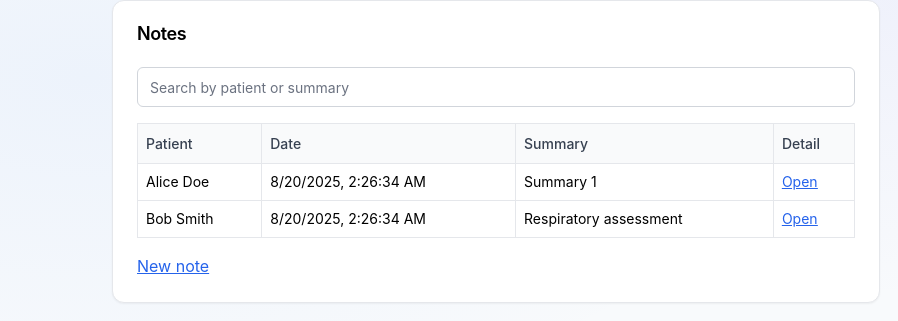
Scenario: Notes list - UX search › filters notes by patient or summary
Check: the heading "Notes" is shown, box [137,23,186,44]
Type "respiratory" into the field with placeholder "Search by patient or summary" at {"x": 496, "y": 87}, box [137,67,855,107]
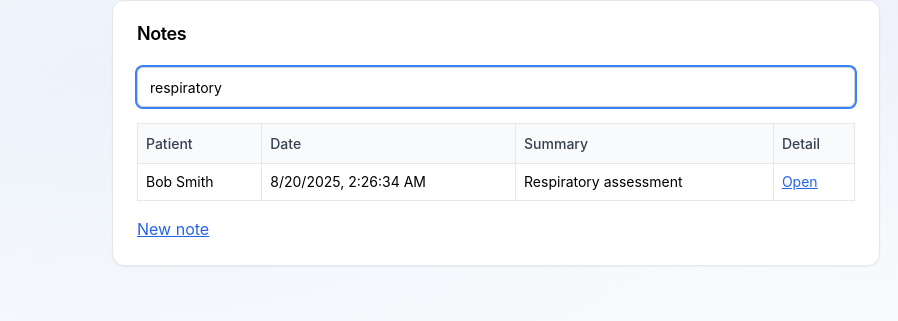
Check: the text "Bob Smith" is shown, box [138,164,262,200]
Check: the text "Alice Doe" is gone
